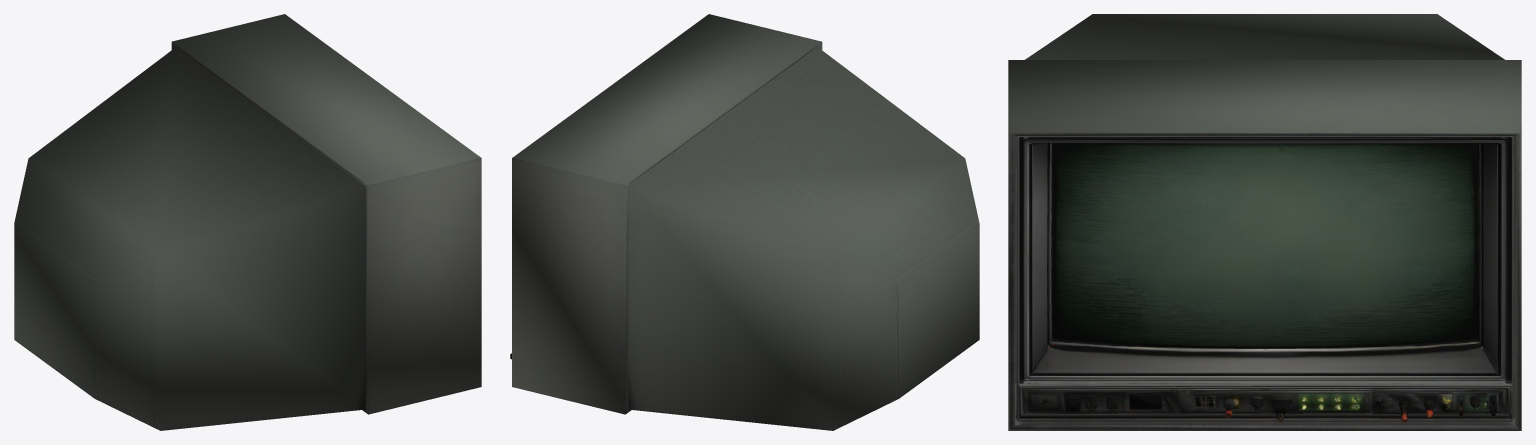
The model's file is Screen.fbx.
3 renders of one model, left to right at view 1: azimuth 30°, elevation 25°; view 2: azimuth 150°, elevation 25°; view 3: azimuth 270°, elevation 25°, orthographic. The views are drawn at different scales.
Parts seen in each view (by area): view 1: tripo_node_78d1972d; view 2: tripo_node_78d1972d; view 3: tripo_node_78d1972d.
Boxes of the visible parts, x1,y1,x2,y2 form: tripo_node_78d1972d: (14, 14, 481, 430); tripo_node_78d1972d: (510, 14, 979, 430); tripo_node_78d1972d: (1008, 14, 1521, 430).
Bounding box in the file's own units: 0.998 × 0.6426 × 0.998.
